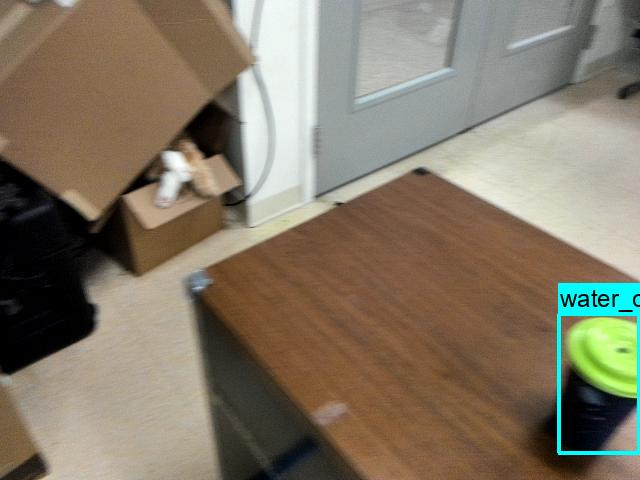water_cup: (557, 317, 640, 453)
